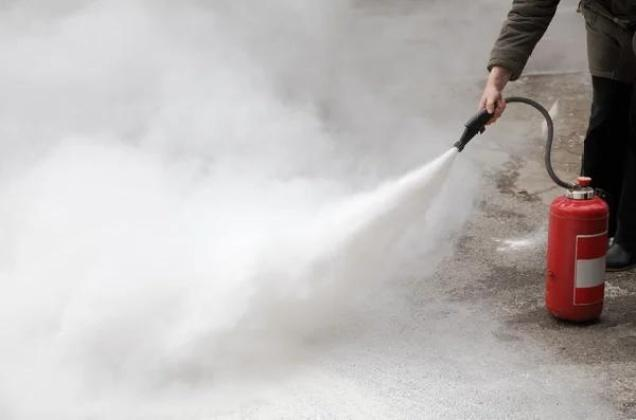APAR: (546, 174, 609, 324)
